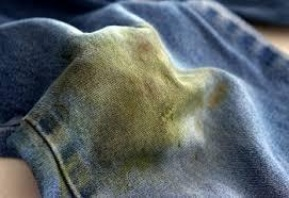earth: (83, 59, 207, 158)
